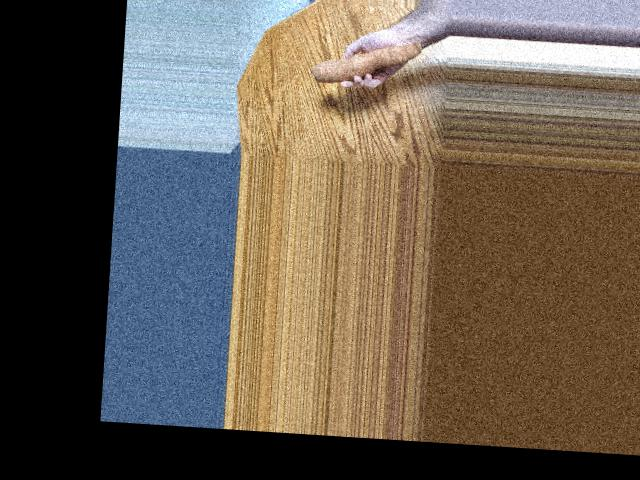sweet_potato: (295, 41, 409, 93)
